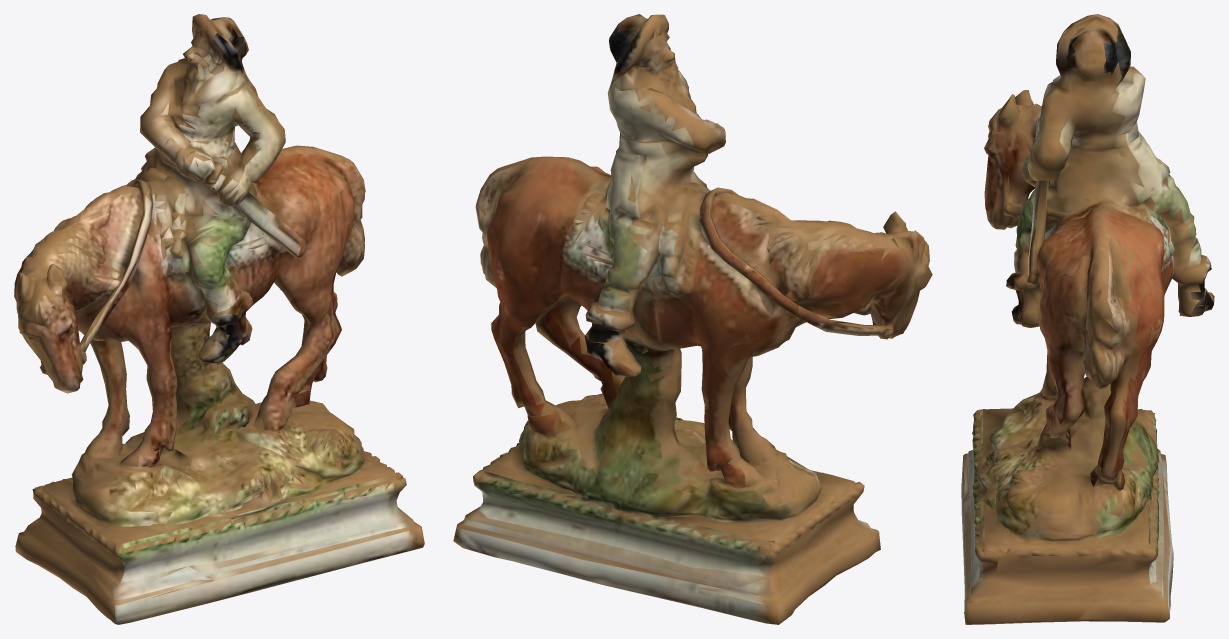
File: hudibras-20177417.glb
The picture shows the model from 3 angles, left to right: view 1: azimuth 30°, elevation 25°; view 2: azimuth 150°, elevation 25°; view 3: azimuth 270°, elevation 25°; orthographic projection. The views are drawn at different scales.
Visible parts, largest first — view 1: Mesh; view 2: Mesh; view 3: Mesh.
Part boxes in pixels (box(x1,y1,x2,y2)): Mesh: box(14, 14, 424, 624); Mesh: box(453, 14, 932, 624); Mesh: box(961, 14, 1214, 624).
Size of the model in its own units: 0.2226 by 0.2892 by 0.1237.
Materials: 1 (1 with a texture image).
